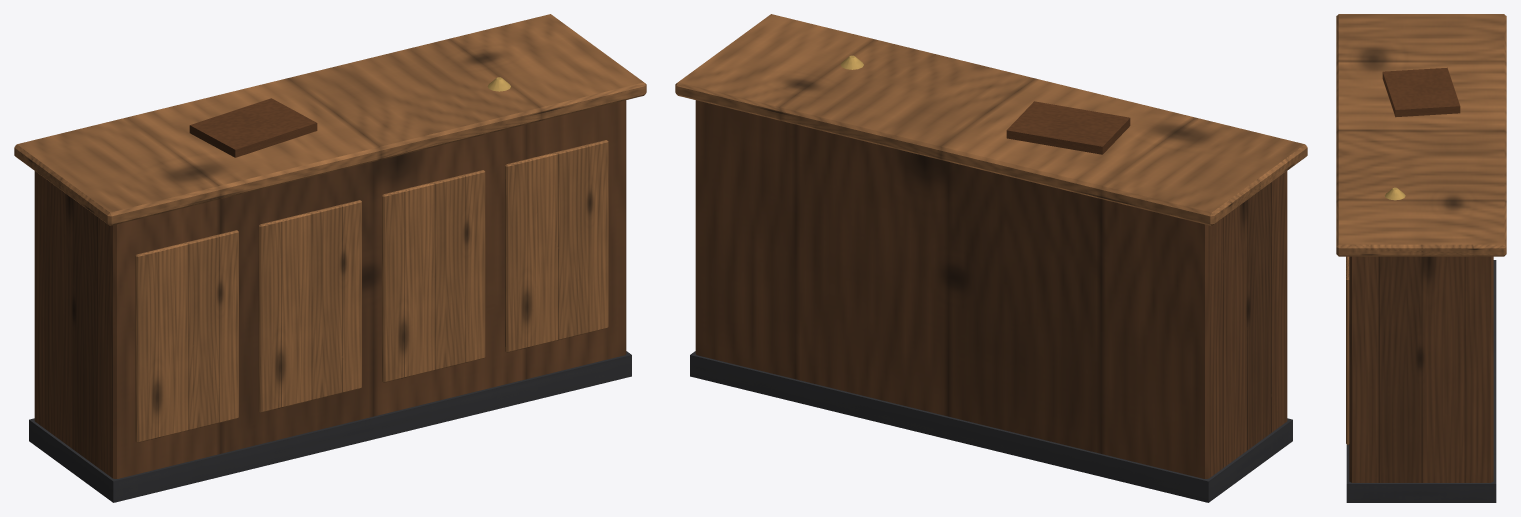
File: OB_Lada_Recepcja.fbx
3 renders of one model, left to right at view 1: azimuth 30°, elevation 25°; view 2: azimuth 150°, elevation 25°; view 3: azimuth 270°, elevation 25°, orthographic. The views are drawn at different scales.
Parts seen in each view (by area): view 1: Lada; view 2: Lada; view 3: Lada.
Part boxes in pixels (bbox=[...]): Lada: bbox=[14, 14, 646, 502]; Lada: bbox=[675, 14, 1307, 502]; Lada: bbox=[1336, 14, 1506, 502].
Bounding box in the file's own units: 2.1 × 1.13 × 0.65.
